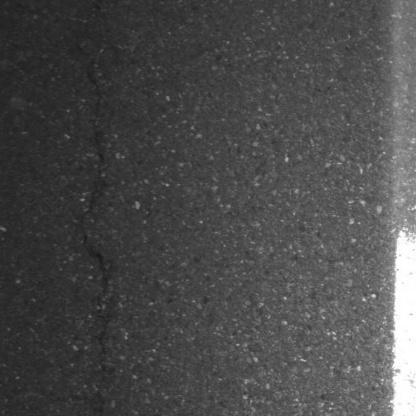Cracks: (77, 62, 114, 416), (84, 0, 115, 24)
